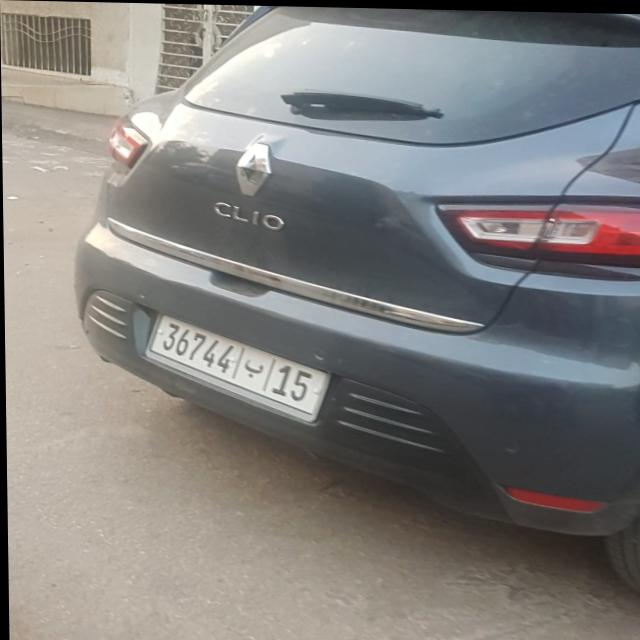License-Plate: (144, 314, 329, 420)
